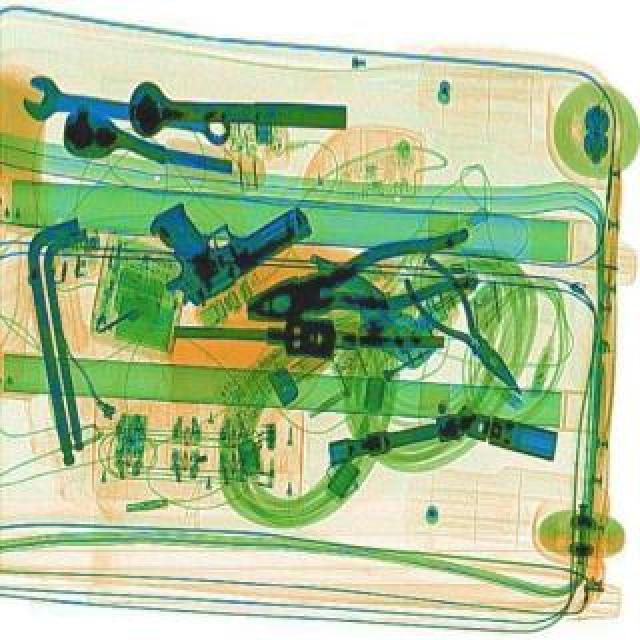gun: (128, 150, 324, 314)
scissors: (20, 72, 238, 154)
wrench: (240, 220, 488, 344), (396, 252, 540, 410)
